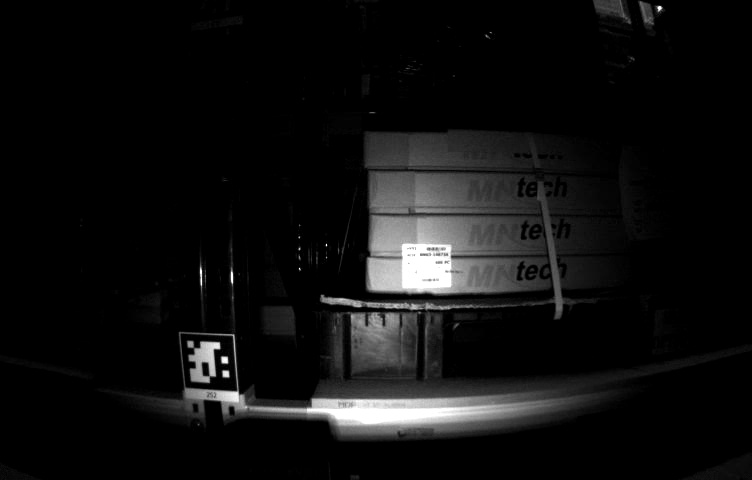True Barcode: (397, 241, 453, 290)
